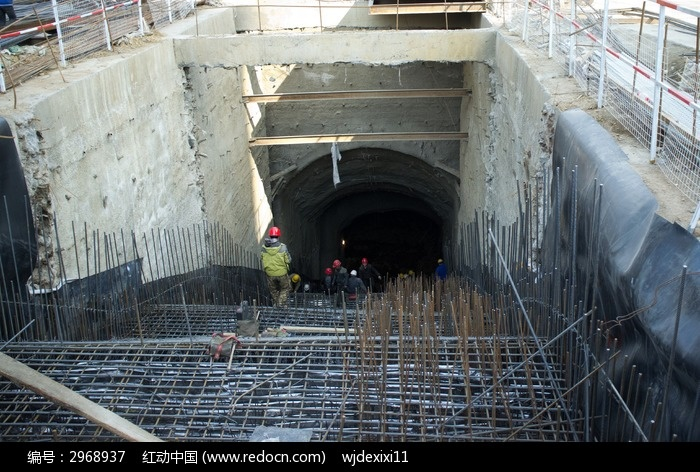red: (266, 226, 281, 242), (359, 256, 369, 267), (333, 258, 341, 270), (324, 266, 332, 276)
white: (349, 268, 358, 277)
yellow: (292, 273, 300, 284)
